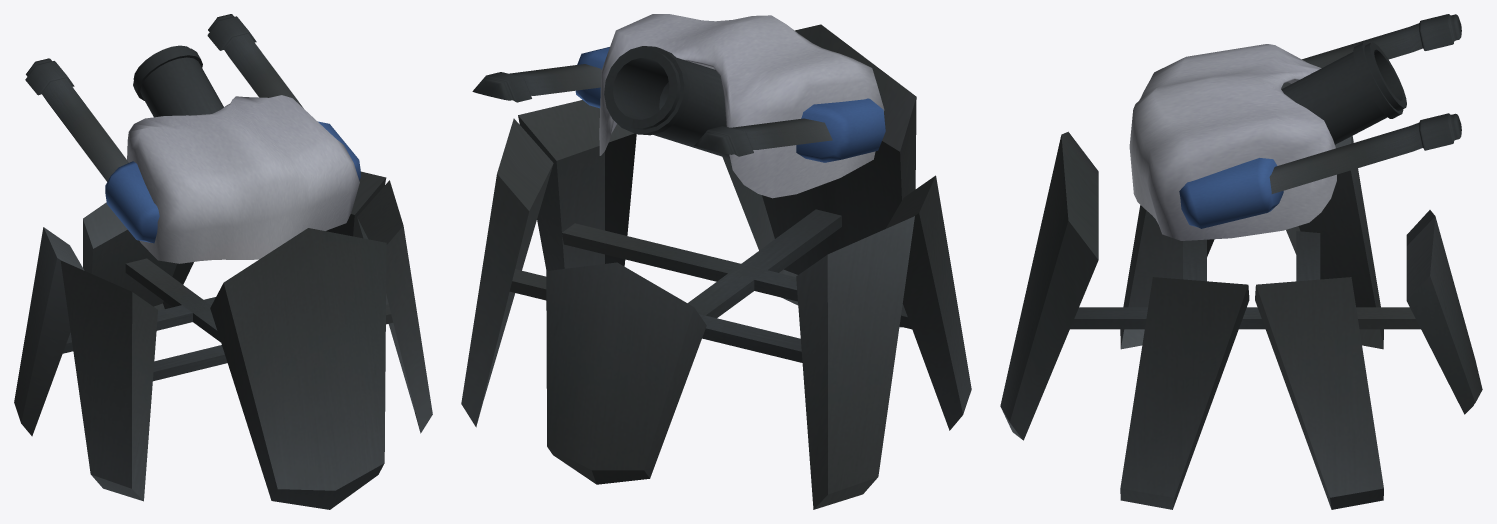
The model's file is mortar04.fbx.
The picture shows the model from 3 angles, left to right: view 1: azimuth 30°, elevation 25°; view 2: azimuth 150°, elevation 25°; view 3: azimuth 270°, elevation 25°; orthographic projection. The views are drawn at different scales.
Visible parts, largest first — view 1: polySurface583, polySurface602; view 2: polySurface583, polySurface602; view 3: polySurface583, polySurface602.
Boxes of the visible parts, <box> form: polySurface583: <box>14,171,432,509</box>; polySurface602: <box>25,14,360,263</box>; polySurface583: <box>461,24,971,509</box>; polySurface602: <box>472,14,885,198</box>; polySurface583: <box>1000,131,1482,509</box>; polySurface602: <box>1129,14,1461,240</box>.
Size of the model in its own units: 23.01 by 22.69 by 25.63.
